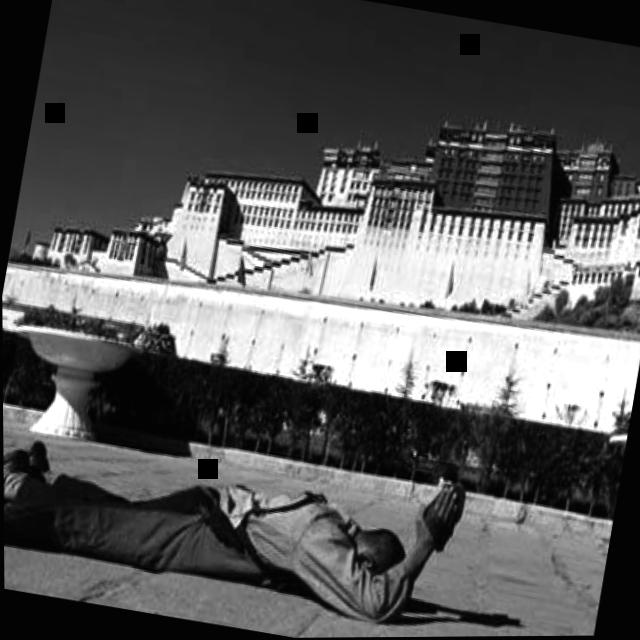Fall-Detected: (2, 398, 472, 634)
